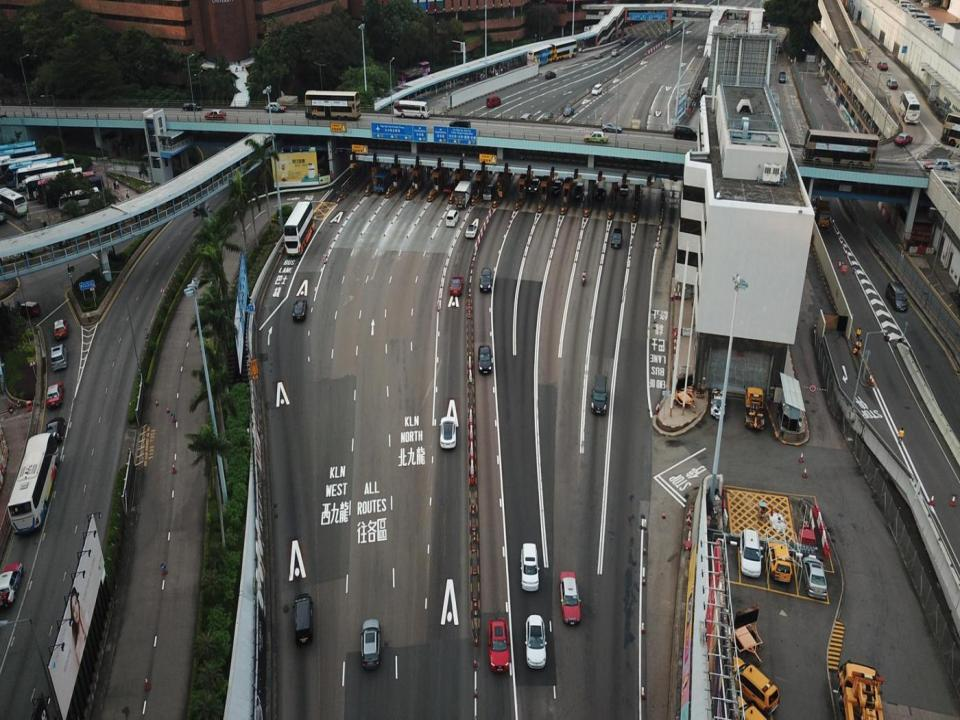bus: (7, 432, 60, 535), (802, 129, 879, 170), (15, 157, 79, 191), (1, 152, 54, 192), (38, 170, 97, 205), (44, 174, 105, 207), (5, 156, 64, 188), (25, 167, 83, 199), (304, 90, 360, 122), (283, 201, 315, 256), (0, 146, 38, 180), (0, 140, 38, 172), (57, 186, 102, 210), (397, 61, 431, 90), (0, 188, 28, 218), (939, 112, 960, 147), (548, 38, 578, 62), (898, 92, 920, 124), (393, 100, 430, 118), (526, 44, 552, 67)
car: (488, 616, 510, 671), (801, 556, 827, 600), (0, 561, 23, 608), (560, 570, 580, 624), (44, 417, 66, 444), (439, 415, 457, 448), (45, 381, 64, 408), (710, 388, 726, 420), (924, 157, 954, 172), (477, 344, 491, 374), (584, 130, 608, 144), (53, 317, 68, 338), (293, 300, 308, 320), (894, 133, 914, 146), (204, 109, 227, 120), (601, 122, 622, 134), (450, 276, 463, 295), (550, 180, 564, 195), (265, 102, 286, 112), (528, 178, 540, 195), (464, 224, 478, 238), (183, 102, 202, 112), (595, 187, 608, 200), (620, 179, 629, 196), (542, 110, 553, 121), (887, 78, 898, 88), (563, 106, 574, 116), (877, 61, 888, 70), (545, 72, 556, 80), (620, 36, 628, 46), (779, 72, 786, 83), (612, 49, 619, 56), (775, 45, 781, 52), (595, 53, 602, 59)
truck: (837, 658, 883, 719), (742, 386, 764, 430), (454, 178, 474, 207), (813, 197, 831, 228), (373, 167, 394, 193)
van: (727, 656, 780, 715), (739, 529, 764, 577), (524, 614, 546, 668), (766, 541, 792, 584), (293, 594, 314, 644), (360, 618, 381, 668), (726, 695, 768, 719), (520, 543, 539, 591), (590, 374, 608, 415), (885, 282, 908, 312), (50, 343, 68, 372), (674, 125, 698, 142), (19, 301, 41, 318), (479, 267, 492, 292), (448, 119, 470, 132), (611, 228, 623, 248), (446, 209, 459, 226), (573, 183, 584, 200), (486, 95, 501, 107), (484, 185, 495, 200), (520, 114, 532, 124), (592, 83, 602, 94)
